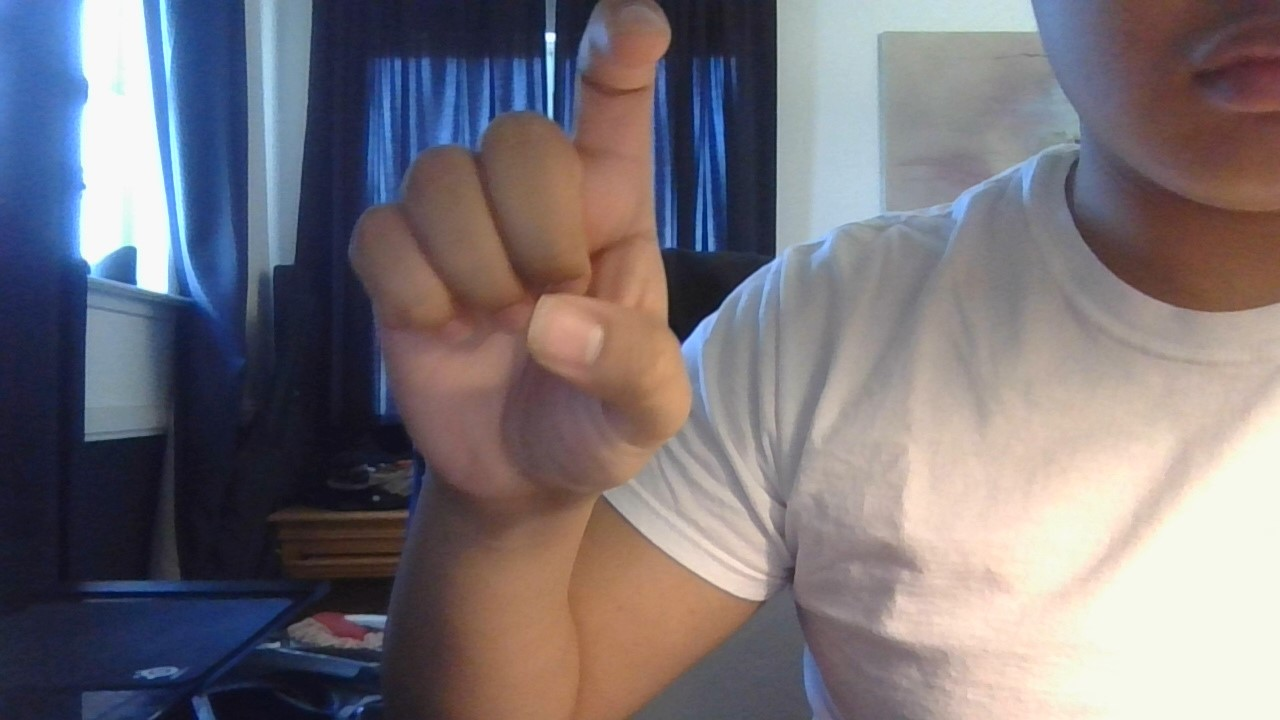x: (319, 1, 727, 513)
